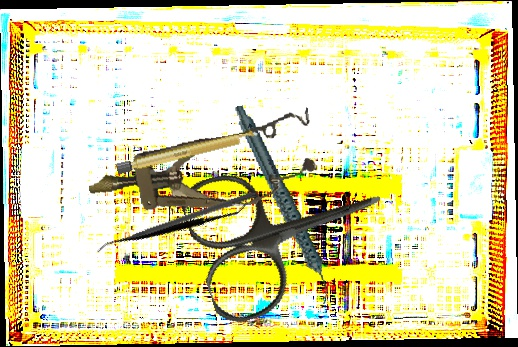Handpiece: (233, 95, 334, 314)
Iris Scissors: (175, 130, 404, 329)
Pusher: (105, 189, 257, 249)
Scalpel Handle: (115, 128, 261, 176)
Spatula Surgical: (96, 149, 249, 305)
Speculum: (81, 107, 323, 232)
